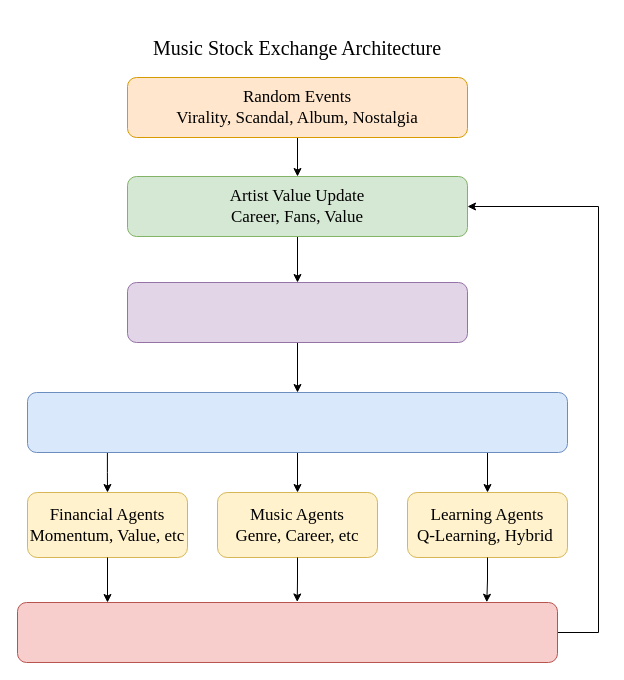
This 624x680 diagram has some shape labels left out. The centre of each missing label's shape, as x and y in pixels:
Exchange Process Orders, Update Prices: point 287,632
Genre Popularity Cycles: point 297,312
Market Snapshot Price, History, Genre, Stage, Talent, Loyalty, Virality: point 297,422
